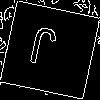J: (24, 25, 59, 76)
